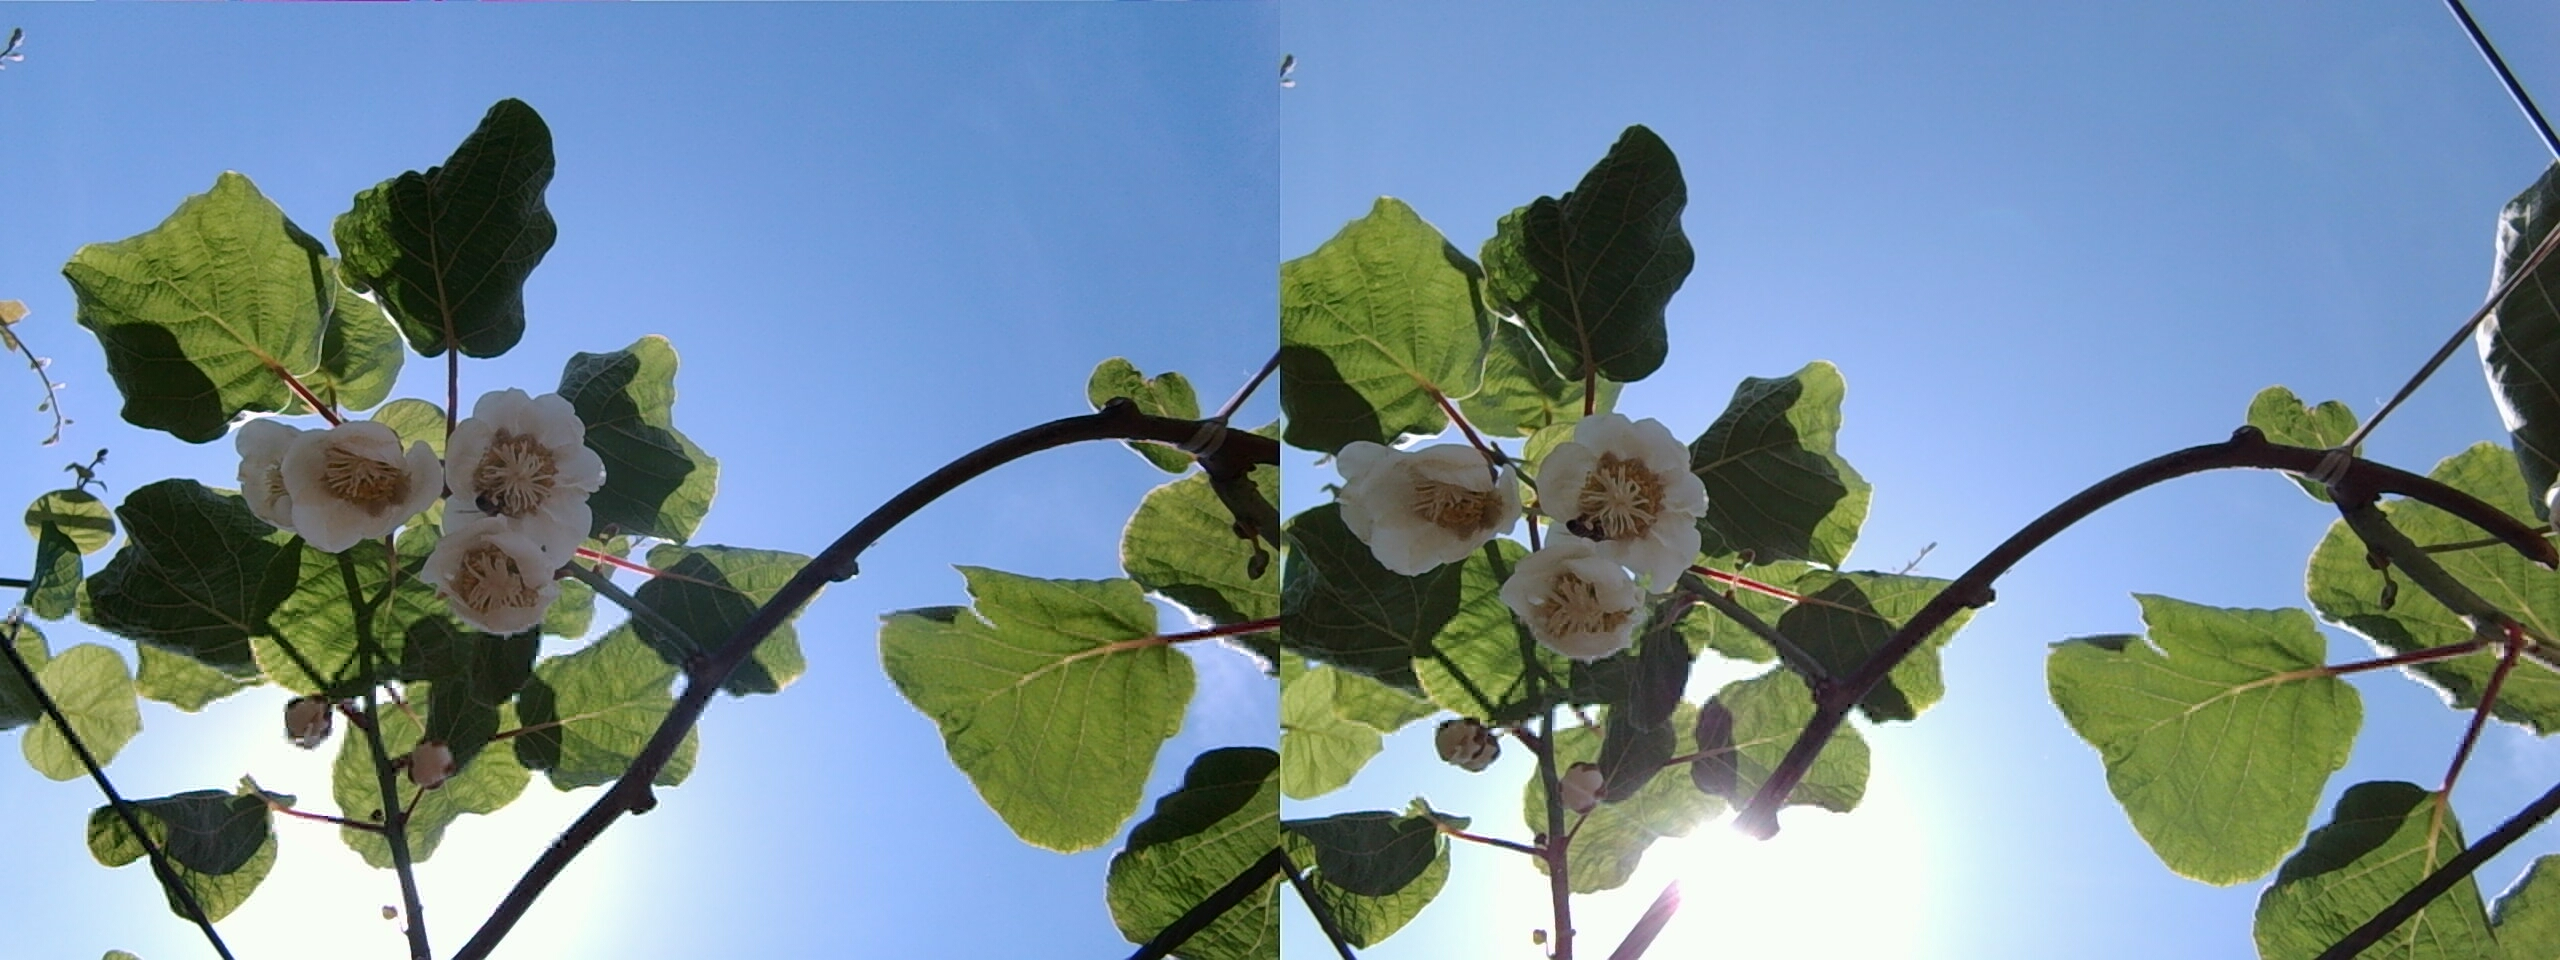flower: (428, 380, 606, 598), (1522, 403, 1709, 584), (243, 411, 441, 550), (1332, 433, 1523, 567), (424, 509, 567, 622), (1500, 545, 1649, 650)
